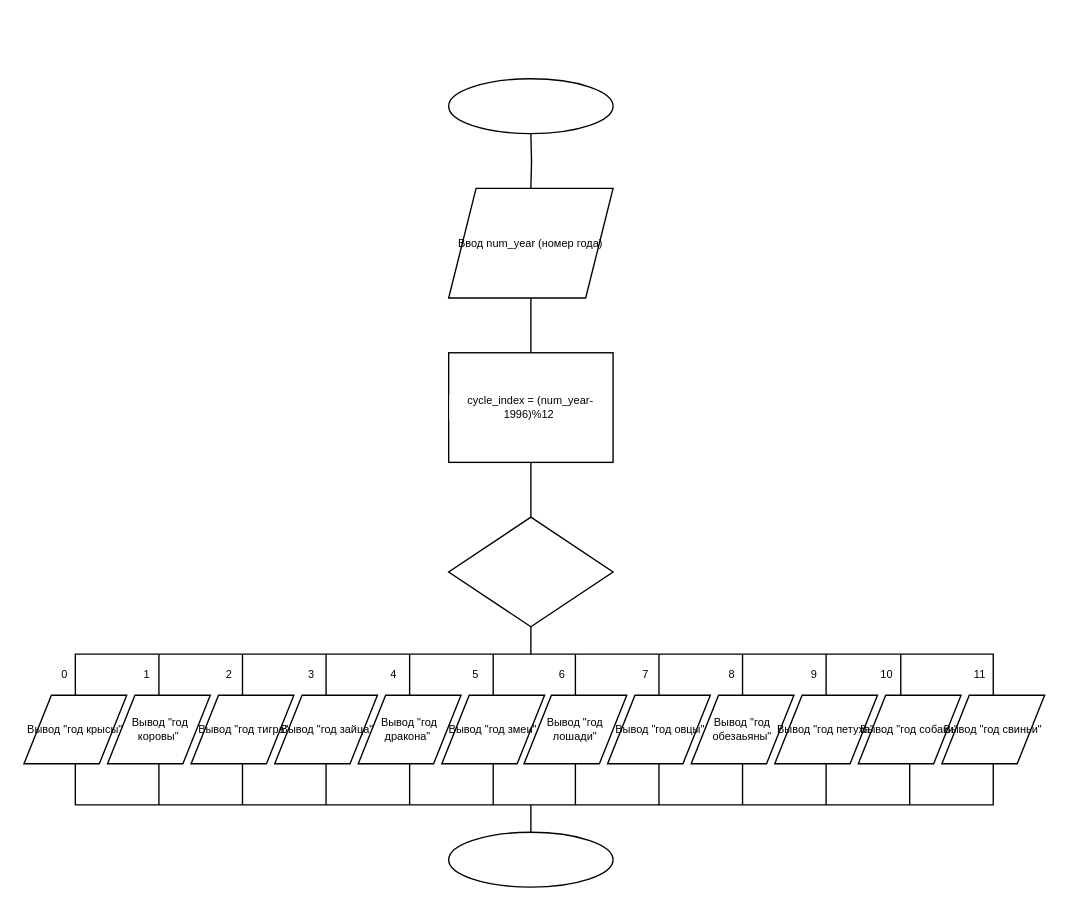
Image size: 1069x911. Some labels were removed from this diagram. Here are the shapes that lost their labels. From the top down, the centre of each, then its label:
the point at 530,105: Начало
the point at 530,571: cycle_index
the point at 530,859: Конец
